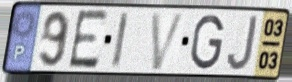9: (38, 10, 71, 69)
E: (66, 8, 111, 71)
G: (189, 13, 226, 72)
I: (109, 10, 132, 71)
J: (225, 14, 260, 73)
V: (149, 11, 188, 72)
